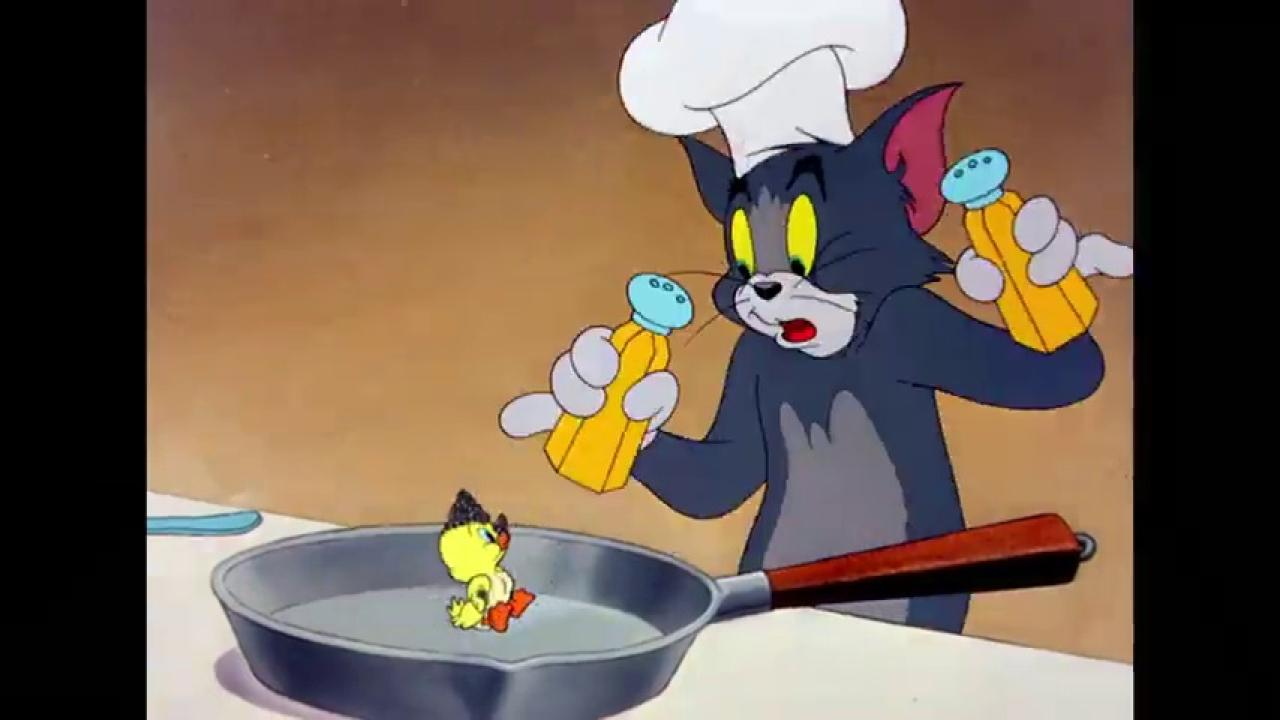Tom: (496, 80, 1107, 649)
